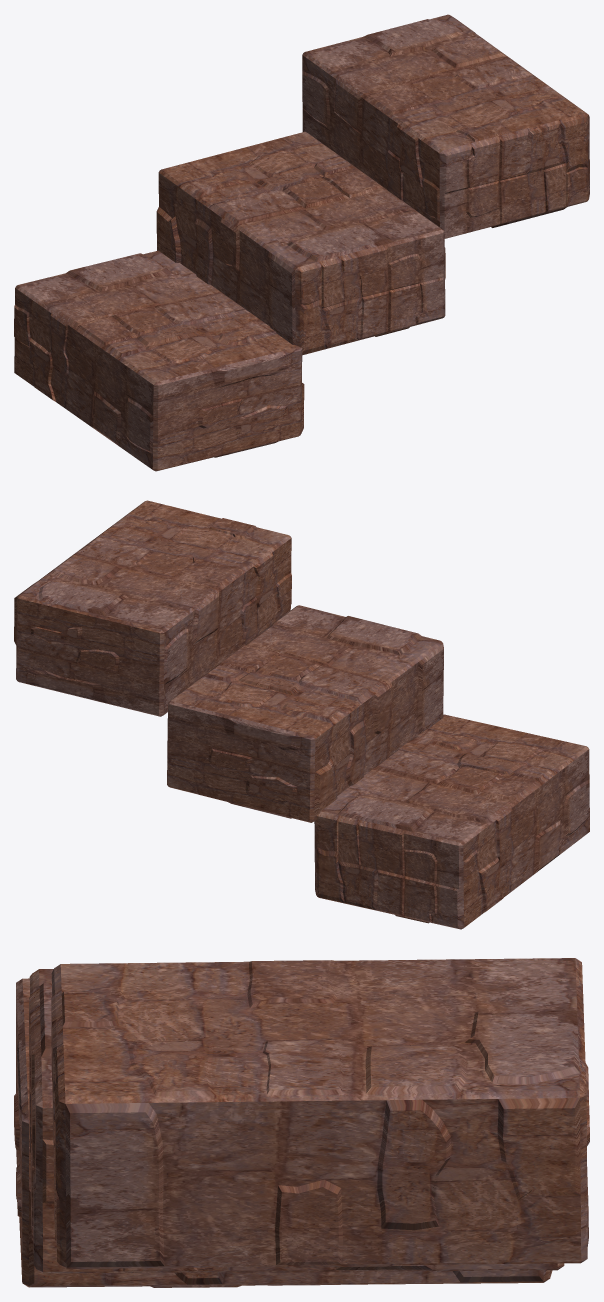
File: escadas.fbx
3 views of the same model, one above another, from view 1: azimuth 30°, elevation 25°; view 2: azimuth 150°, elevation 25°; view 3: azimuth 270°, elevation 25° (orthographic). The views are drawn at different scales.
Visible parts, largest first — view 1: colunas110, colunas141, colunas142; view 2: colunas110, colunas141, colunas142; view 3: colunas142, colunas110, colunas141.
Boxes of the visible parts, x1=… form: colunas110: x1=14, y1=250, x2=304, y2=471; colunas141: x1=156, y1=131, x2=445, y2=355; colunas142: x1=302, y1=14, x2=589, y2=238; colunas110: x1=314, y1=714, x2=589, y2=929; colunas141: x1=167, y1=605, x2=443, y2=822; colunas142: x1=14, y1=500, x2=291, y2=716; colunas142: x1=51, y1=958, x2=589, y2=1268; colunas110: x1=14, y1=978, x2=552, y2=1287; colunas141: x1=29, y1=969, x2=564, y2=1273.
Bounding box in the file's own units: 4.59 × 2.4 × 2.62.
1 material, 1 textured.
